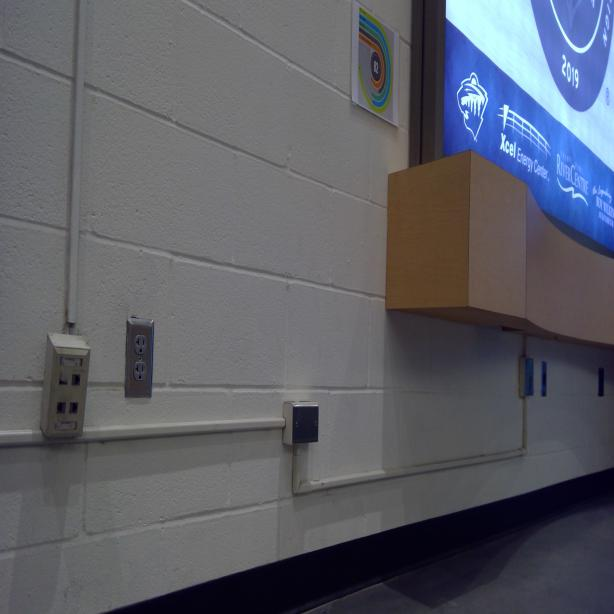typeb: (132, 360, 148, 385), (134, 335, 147, 355)
